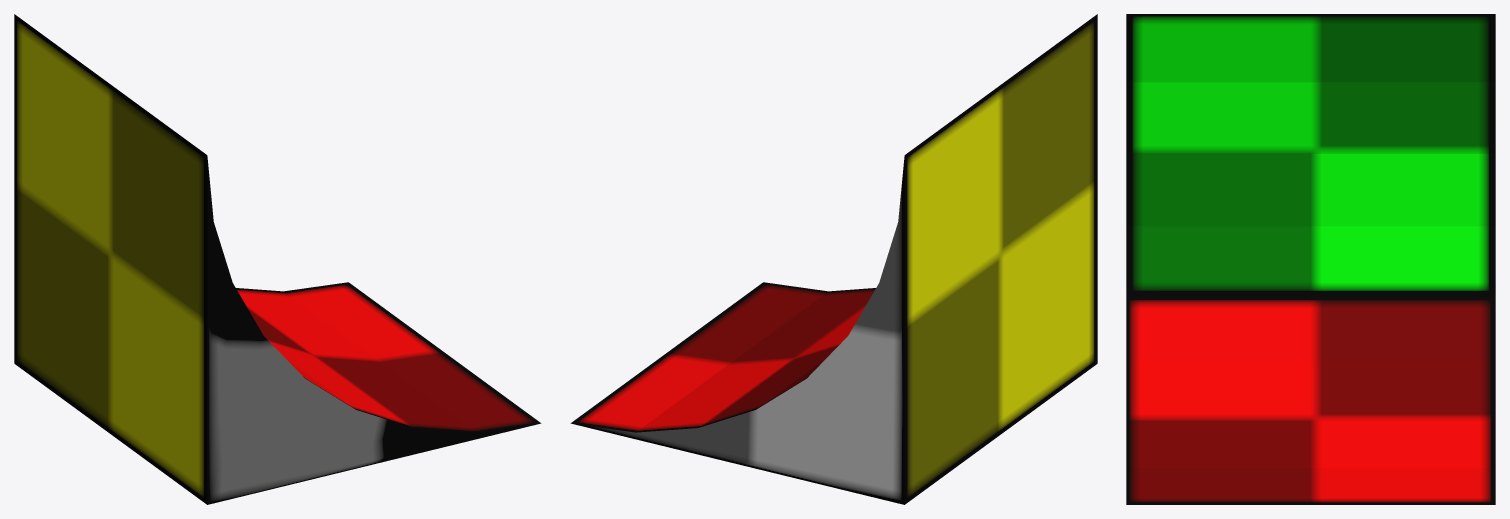
The model's file is slope4R.obj.
The picture shows the model from 3 angles, left to right: view 1: azimuth 30°, elevation 25°; view 2: azimuth 150°, elevation 25°; view 3: azimuth 270°, elevation 25°; orthographic projection. The views are drawn at different scales.
Visible parts, largest first — view 1: slope4R; view 2: slope4R; view 3: slope4R.
Part boxes in pixels (x1,y1,x2,y2): slope4R: (14, 14, 541, 504); slope4R: (570, 14, 1097, 504); slope4R: (1126, 14, 1495, 504).
Size of the model in its own units: 2 by 2 by 2.
